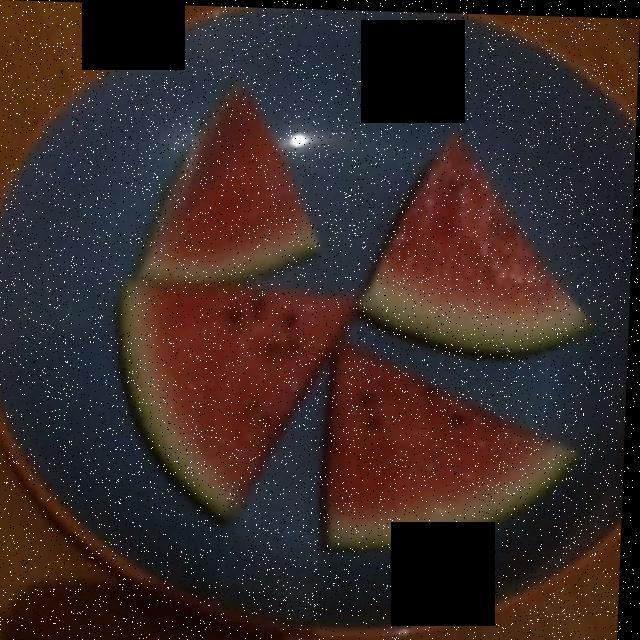watermelon: (118, 107, 571, 512)
